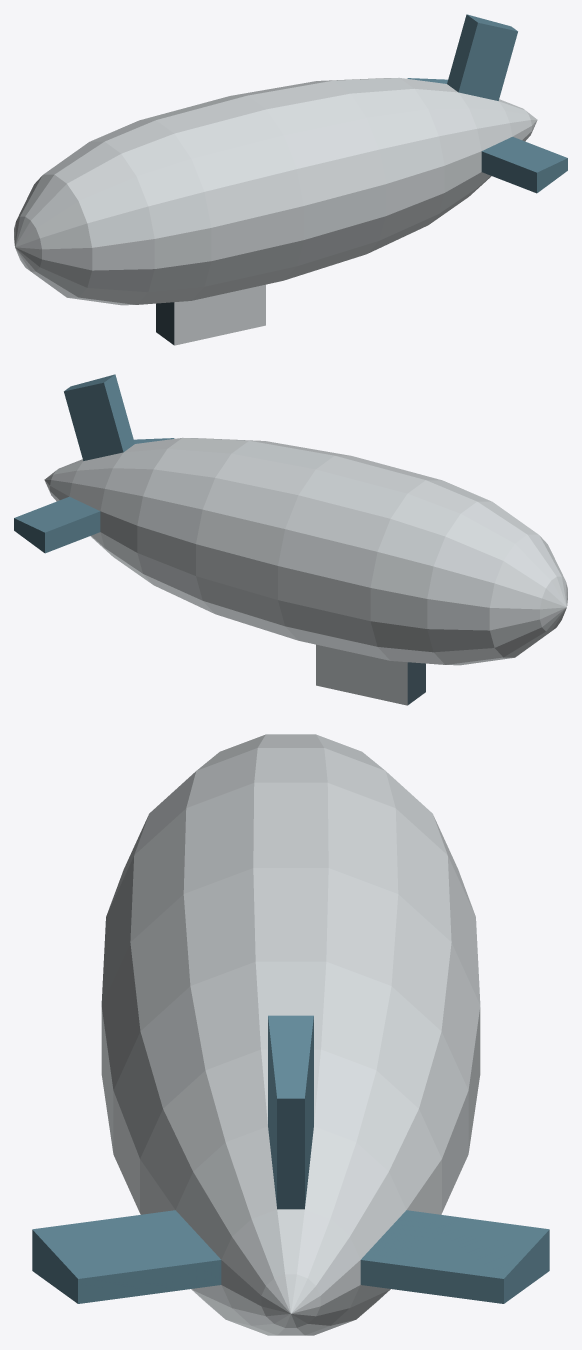
Rendered from NEW_RECOVERY_022_LOD1.fbx.
The picture shows the model from 3 angles, top to bottom: view 1: azimuth 30°, elevation 25°; view 2: azimuth 150°, elevation 25°; view 3: azimuth 270°, elevation 25°; orthographic projection. The views are drawn at different scales.
Parts seen in each view (by area): view 1: Airship; view 2: Airship; view 3: Airship.
Part boxes in pixels (x1,y1,x2,y2): Airship: (14,14,567,345); Airship: (14,374,567,705); Airship: (32,734,549,1335).
Bounding box in the file's own units: 800 × 343 × 362.
